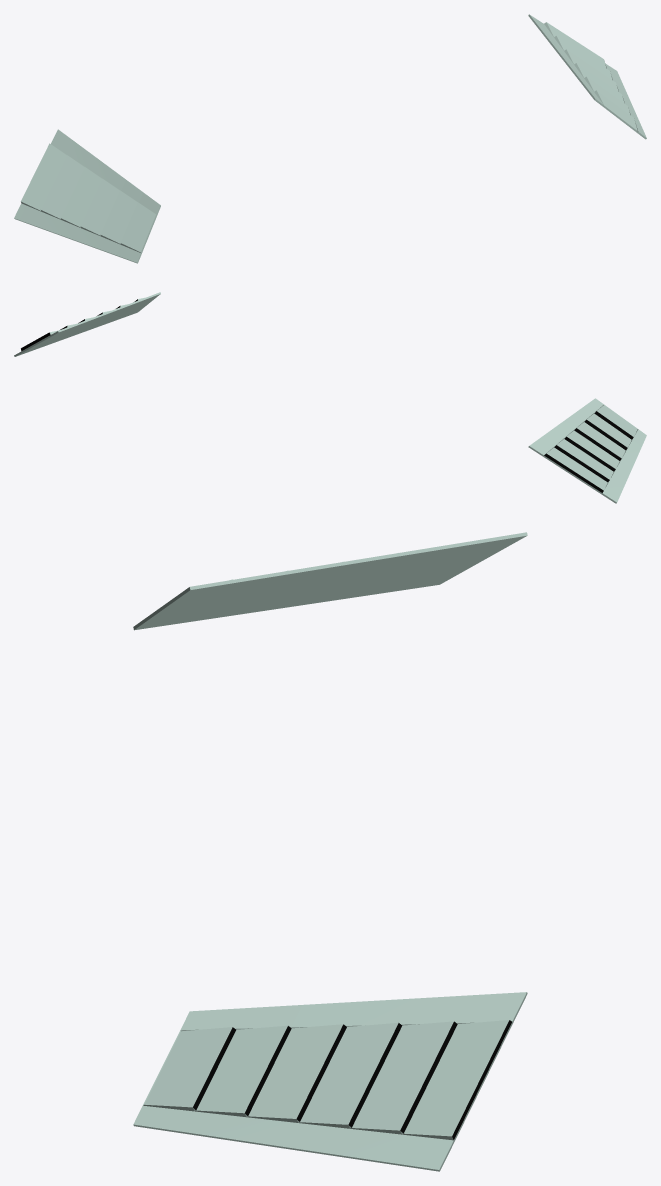
File: TankFWind.fbx
The picture shows the model from 3 angles, top to bottom: view 1: azimuth 30°, elevation 25°; view 2: azimuth 150°, elevation 25°; view 3: azimuth 270°, elevation 25°; orthographic projection. The views are drawn at different scales.
Visible parts, largest first — view 1: TankMainFrontWind; view 2: TankMainFrontWind; view 3: TankMainFrontWind.
Boxes of the visible parts, x1,y1,x2,y2 form: TankMainFrontWind: (14,14,646,263); TankMainFrontWind: (14,292,646,503); TankMainFrontWind: (133,532,527,1171).
Bounding box in the file's own units: 415 × 38.19 × 118.
